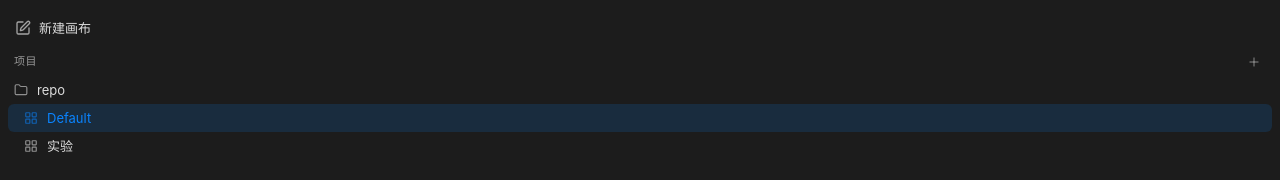
Scenario: WorkspaceTree › 中文输入法确认不提交，保存失败保留草稿供重试
Double-click the button "实验".
double_click(60, 146)  # box [42, 132, 1240, 160]
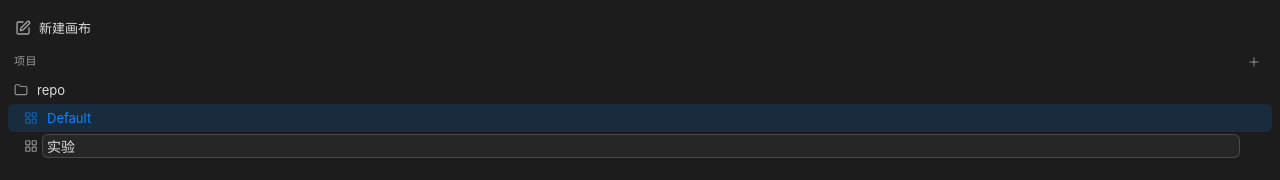
Replace the text in the field named "画布名称" with "草稿" at (641, 146), box [42, 134, 1240, 158]
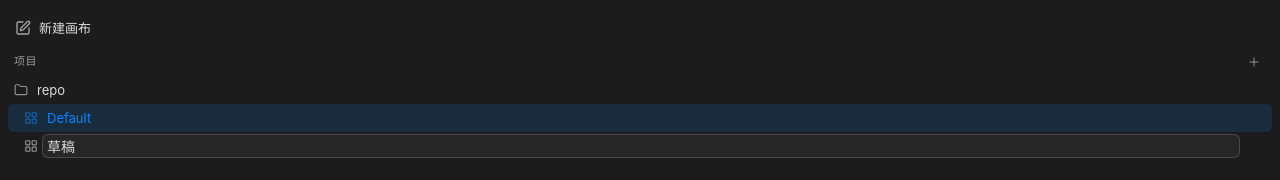
Press Enter in the field named "画布名称", box [42, 134, 1240, 158]
Press Enter in the field named "画布名称", box [42, 134, 1240, 158]
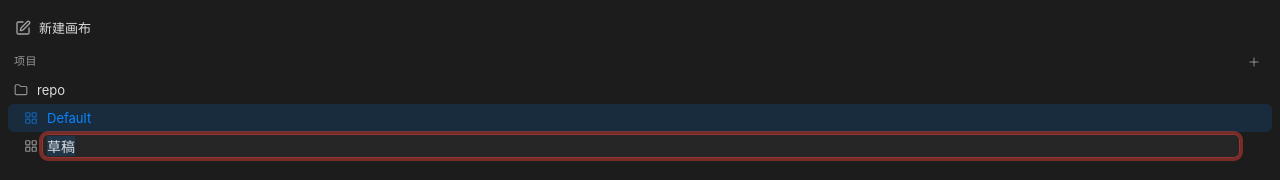
Press Enter in the field named "画布名称", box [42, 134, 1240, 158]
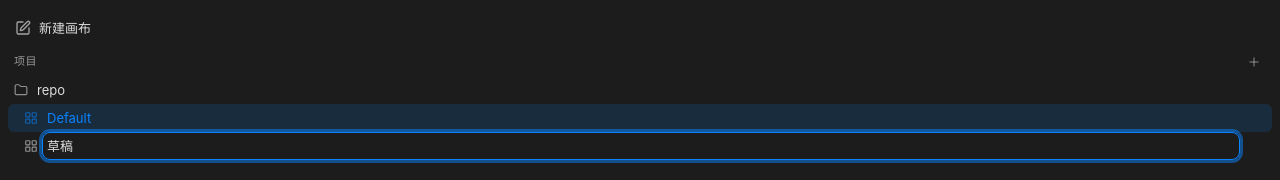
Check: the text "草稿" is shown, box [47, 137, 73, 155]
